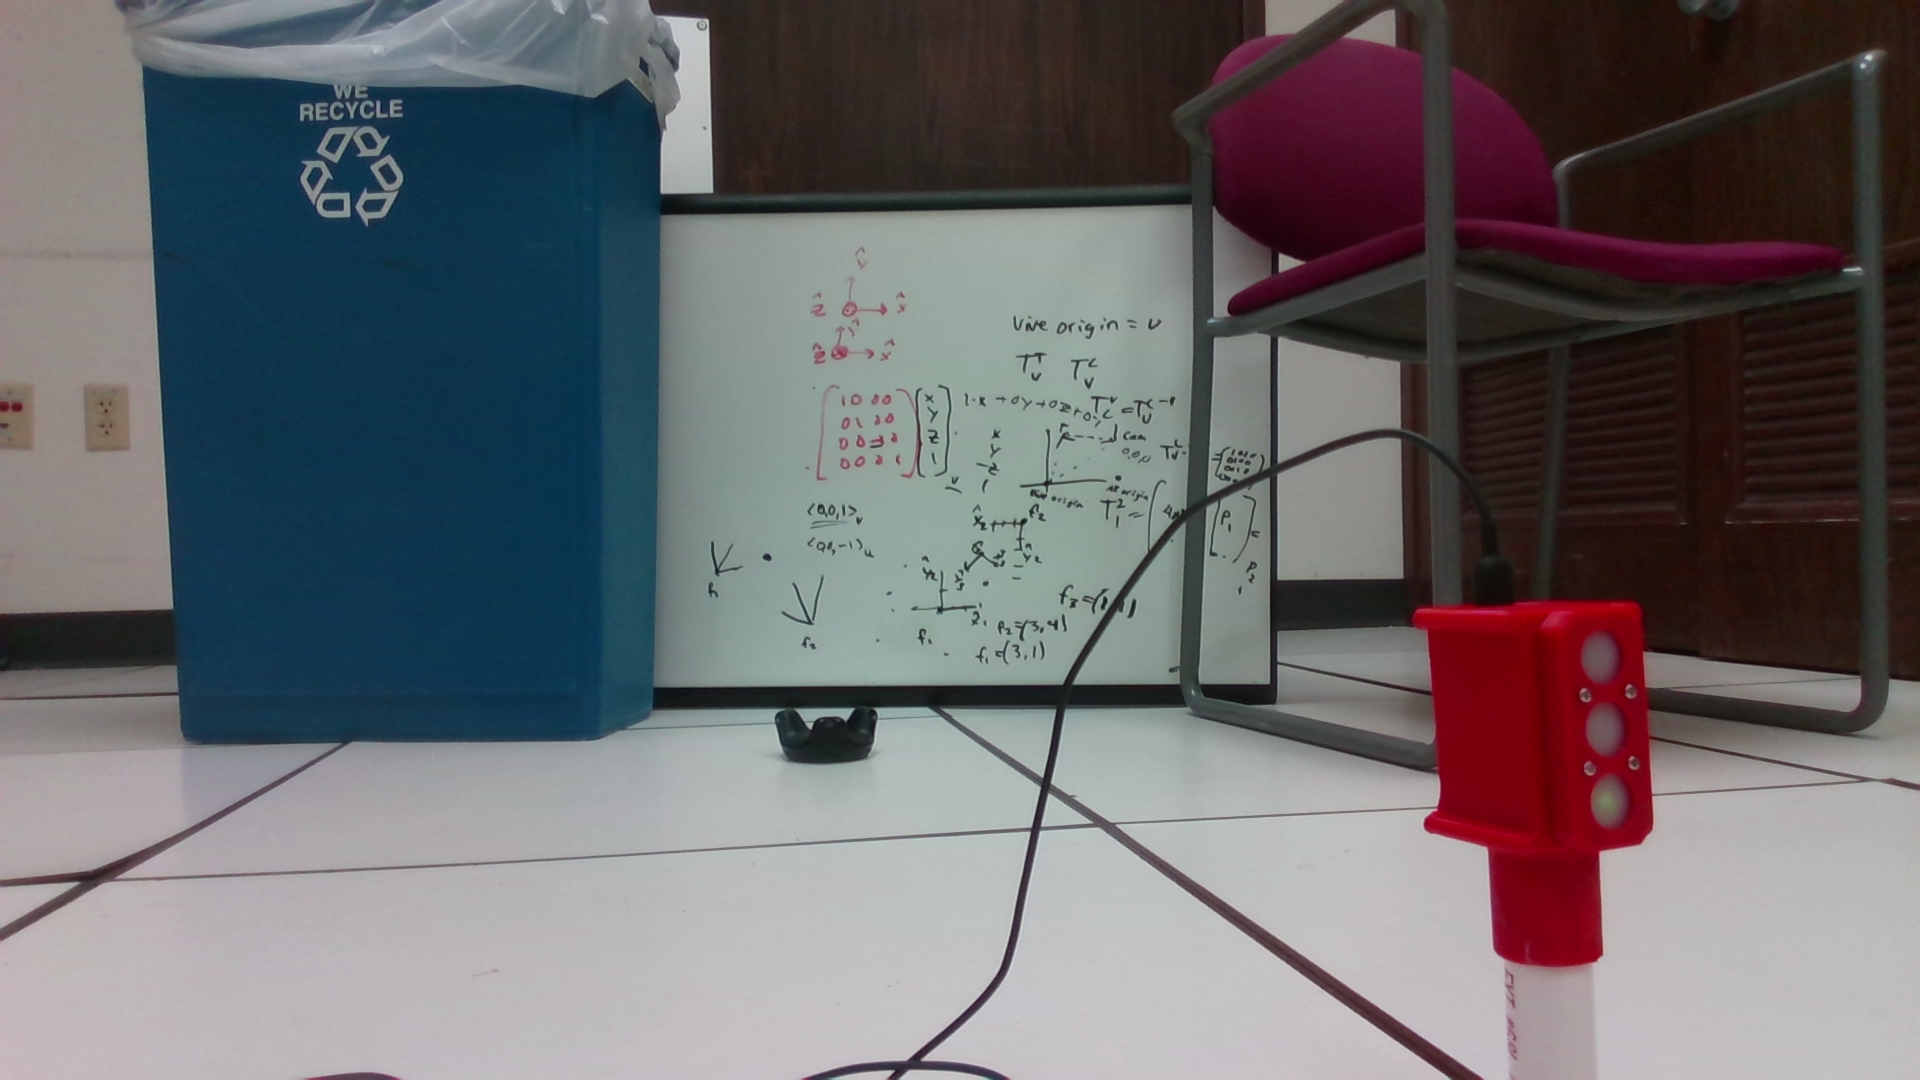stoplight: (1399, 601, 1658, 965)
